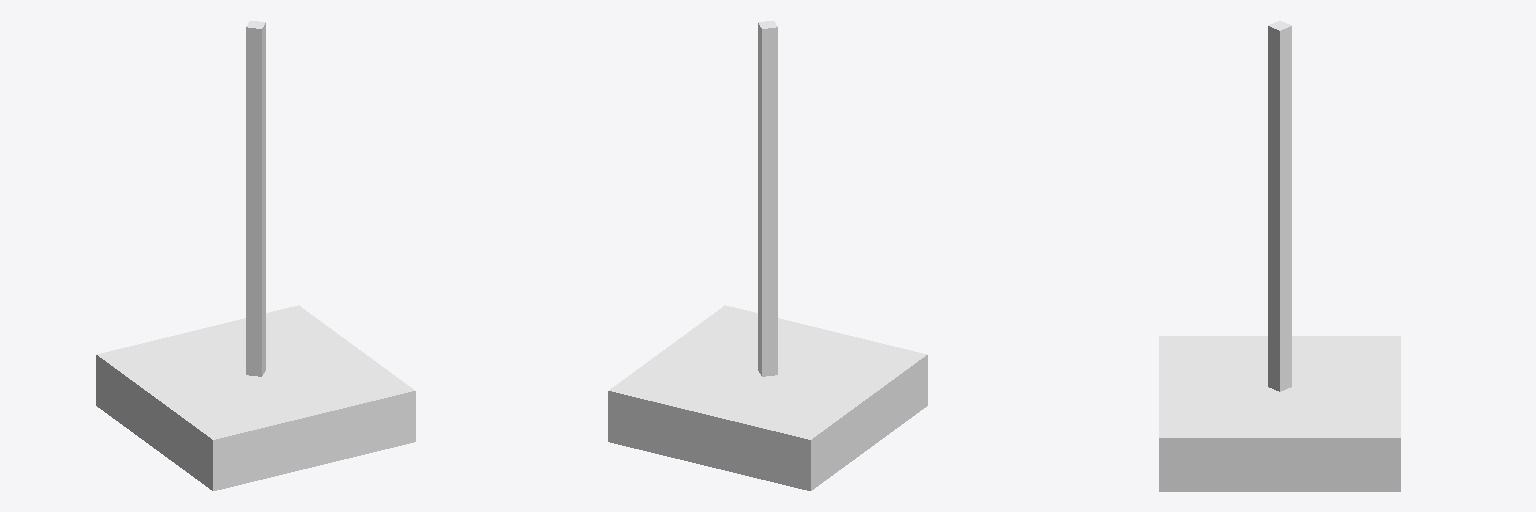
URDF robot description (maze_A):
<?xml version="1.0"?>
<robot name="maze_A">
  <link name="mazeLink">
    <material name="maze_white"><color rgba="1 1 1 1"/></material>
    <visual>
      <origin xyz="-0.000000 -0.000000 0.115000" rpy="0.000000 3.141593 0.785398" />
      <geometry>
        <box size="0.010000 0.010000 0.230000" />
      </geometry>
      <material name="maze_white" />
    </visual>
    <collision>
      <origin xyz="-0.000000 -0.000000 0.115000" rpy="0.000000 3.141593 0.785398" />
      <geometry>
        <box size="0.010000 0.010000 0.230000" />
      </geometry>
    </collision>
    <visual>
      <origin xyz="0 0 -0.017" rpy="0 0 0" />
      <geometry>
        <box size="0.14 0.14 0.034" />
      </geometry>
      <material name="maze_white" />
    </visual>
    <collision>
      <origin xyz="0 0 -0.017" rpy="0 0 0" />
      <geometry>
        <box size="0.14 0.14 0.034" />
      </geometry>
    </collision>
  </link>
</robot>

--- What the picture shows (computed from the rendered views, not written in the file) ---
The picture shows the robot from 3 angles, left to right: view 1: azimuth 30°, elevation 25°; view 2: azimuth 150°, elevation 25°; view 3: azimuth 270°, elevation 25°; orthographic projection.
Model maze_A with 1 links and 0 joints (none), rooted at mazeLink, posed all joints at 0.
Visible links, largest first — view 1: mazeLink; view 2: mazeLink; view 3: mazeLink.
Boxes of the visible links, <box> form: mazeLink: <box>96,21,415,490</box>; mazeLink: <box>608,21,927,490</box>; mazeLink: <box>1159,21,1400,491</box>.
Size in the robot's own frame: 0.14 by 0.14 by 0.264 metres.
Geometry: primitives only (box / cylinder / sphere), no mesh files.
